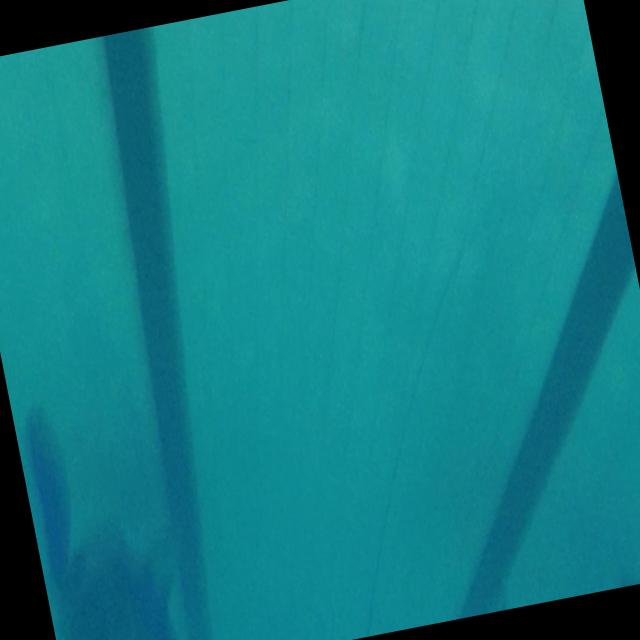human: (0, 27, 275, 640)
